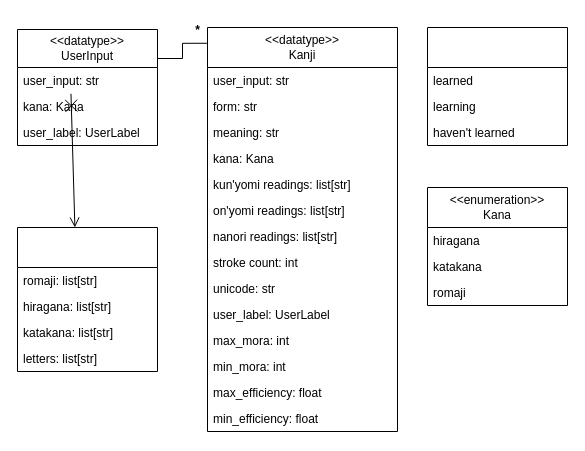
This 585x451 diagram has some shape labels left out. The box of each missing label's shape, as (x1, y1, x2, y2) in pixels:
<<datatype>> Kana: (16, 226, 158, 372)
<<enumeration>> UserLabel: (426, 26, 568, 146)
